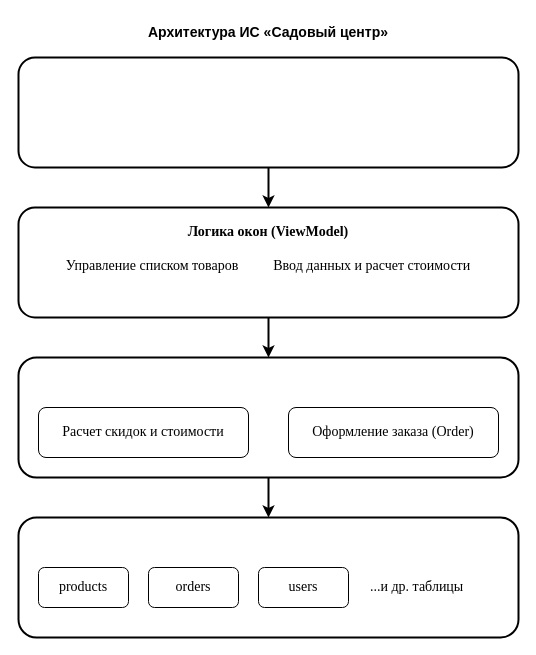
The diagram is 536 pixels wide and 655 high, and some of its shapes have lost their labels. Each missing label, with the box of its shape:
Бизнес-правила (Сервисы): (17, 356, 519, 478)
Доступ к данным (EF Core Context): (17, 516, 519, 638)
Интерфейс пользователя (Avalonia) Окно каталога товаров Окно оформления заказа: (17, 56, 519, 168)
